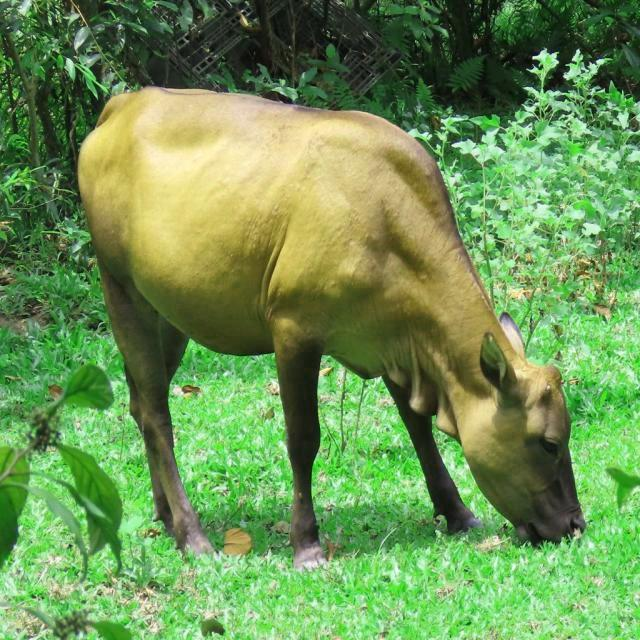cow: (79, 88, 585, 568)
